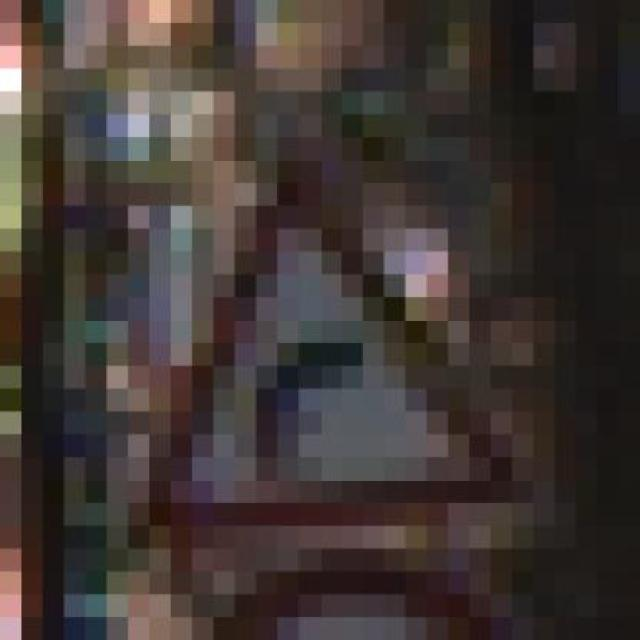Dangerous Rright Curve Ahead: (128, 160, 534, 549)
